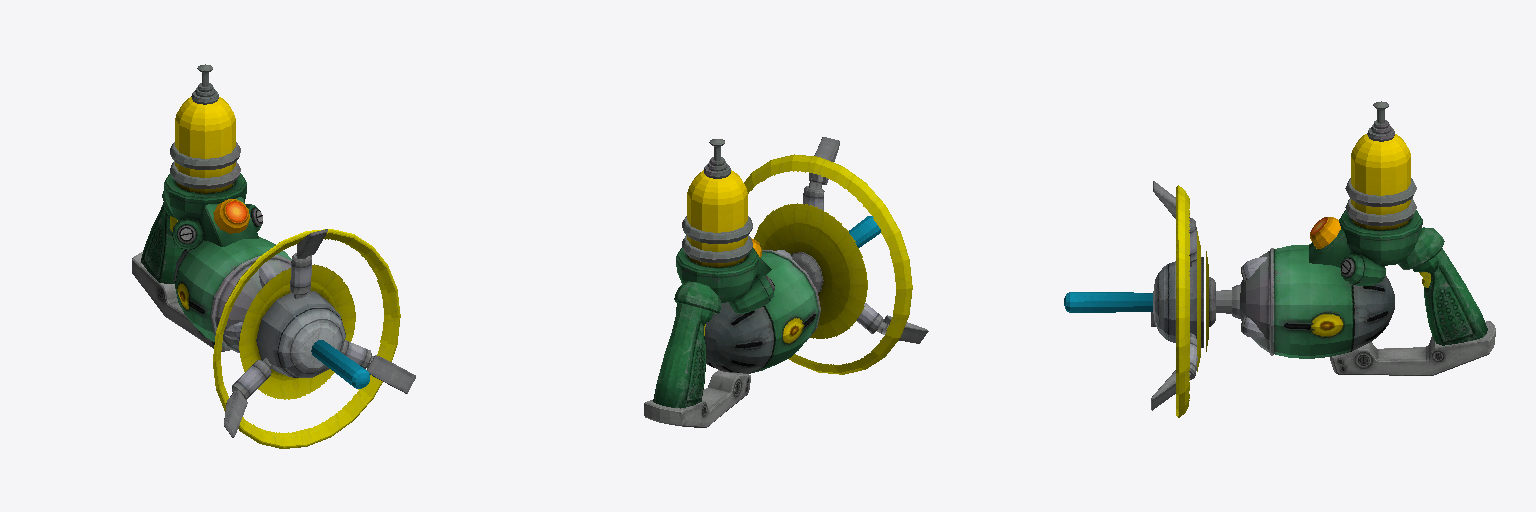
The picture shows the model from 3 angles: view 1: azimuth 30°, elevation 25°; view 2: azimuth 150°, elevation 25°; view 3: azimuth 270°, elevation 25°; orthographic projection.
Parts seen in each view (by area): view 1: Mesh_2, Mesh_1, Mesh_3; view 2: Mesh_2, Mesh_3, Mesh_1; view 3: Mesh_2, Mesh_1, Mesh_3.
Boxes of the visible parts, <box> form: Mesh_2: <box>164,64,291,352</box>; Mesh_1: <box>132,191,415,437</box>; Mesh_3: <box>213,229,400,448</box>; Mesh_2: <box>676,139,820,373</box>; Mesh_3: <box>744,154,912,374</box>; Mesh_1: <box>644,137,928,427</box>; Mesh_2: <box>1240,101,1422,358</box>; Mesh_1: <box>1064,181,1495,410</box>; Mesh_3: <box>1176,185,1208,417</box>.
Bounding box in the file's own units: 5.75 × 8.75 × 11.14.
Materials: 2 (2 with a texture image).